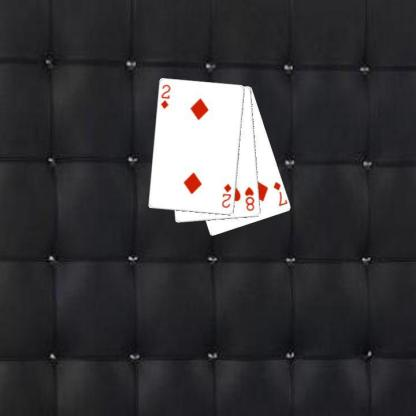2D: (158, 82, 172, 110), (219, 182, 233, 209)
7D: (271, 179, 288, 208)
8H: (242, 184, 256, 212)
